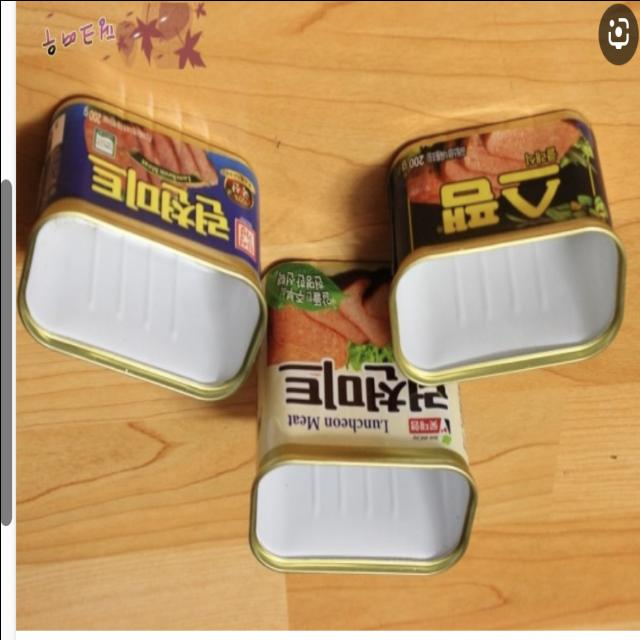can: (12, 84, 266, 422), (242, 253, 475, 594), (385, 107, 630, 381)
